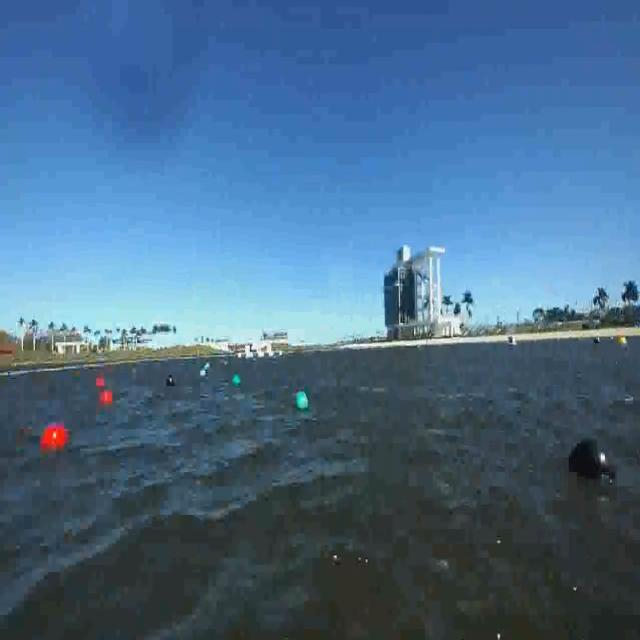black-buoy: (568, 432, 618, 487)
green-buoy: (294, 392, 308, 412)
red-buoy: (41, 425, 70, 452)
